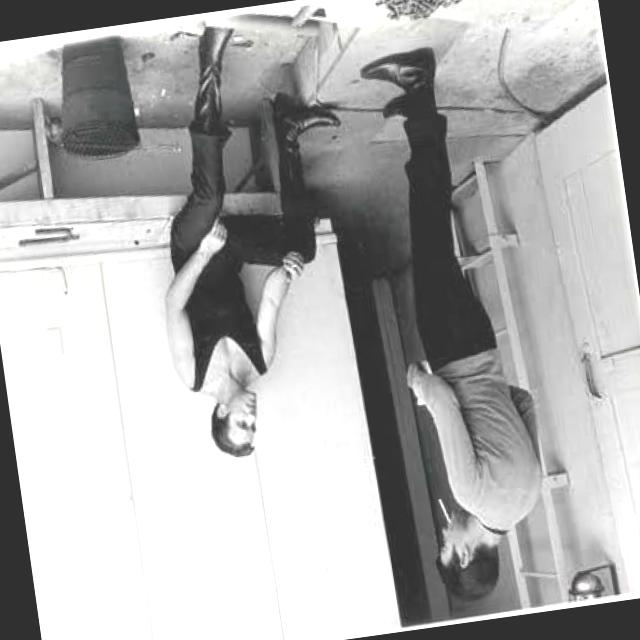cigarette: (429, 495, 454, 526)
